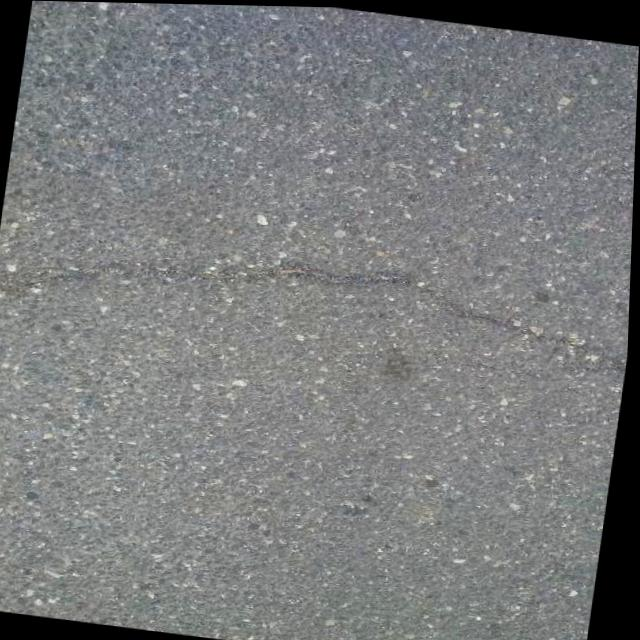Crack: (0, 206, 634, 377)
